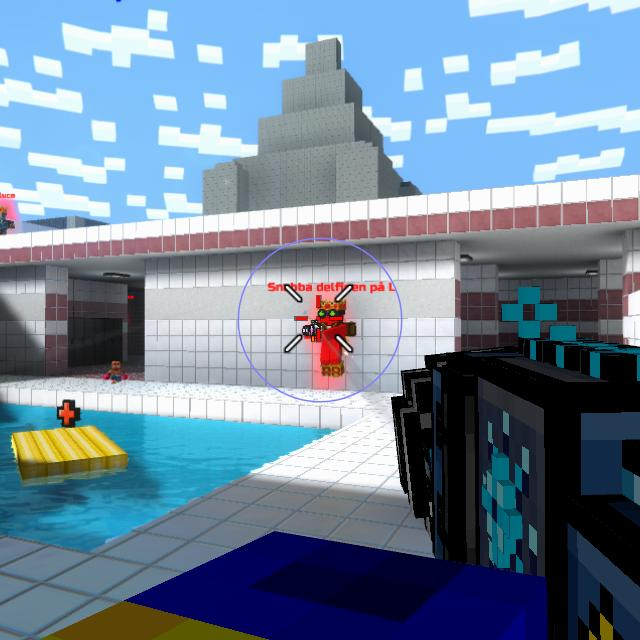Enemy: (304, 302, 357, 378), (0, 205, 15, 235)
